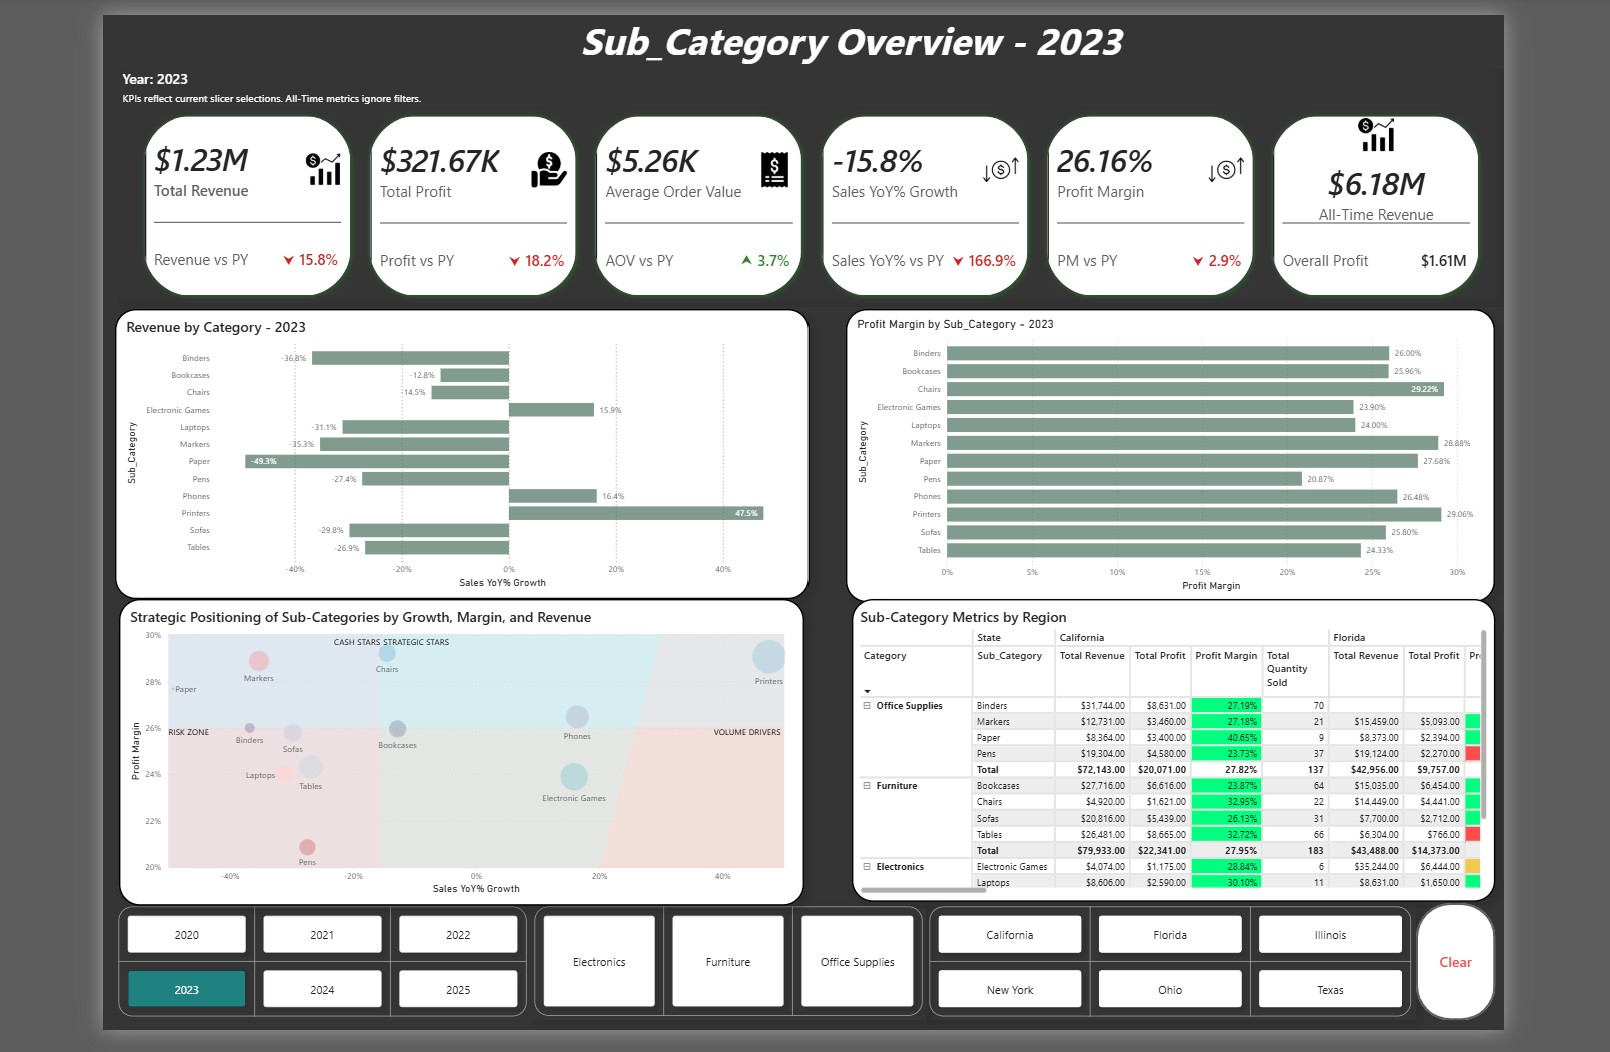

What the dashboard file says about the page in this screenshot:
{"tool":"powerbi","page":{"name":"Sub_Category","canvas":[2000,1600],"ordinal":2},"visuals":[{"type":"cardVisual","fields":{"Data":["analytics Sales_Fact.Total Revenue","analytics Sales_Fact.Total Profit","analytics Sales_Fact.Average Order Value","analytics Sales_Fact.Sales YoY% Growth","analytics Sales_Fact.Profit Margin","measures (2).Total Revenue All Years"]},"box":[21.6,78.4,1978.4,340.5],"z":0},{"type":"barChart","fields":{"Category":["analytics Product_Dim.Sub_Category"],"Y":["analytics Sales_Fact.Sales YoY% Growth"]},"box":[16.2,418.9,991.9,418.9],"z":1000},{"type":"barChart","fields":{"Category":["analytics Product_Dim.Sub_Category"],"Y":["analytics Sales_Fact.Profit Margin"]},"box":[1059.5,418.9,927,418.9],"z":2000},{"type":"pivotTable","title":"Sub-Category Metrics by Region","fields":{"Values":["analytics Sales_Fact.Total Revenue","analytics Sales_Fact.Total Profit","analytics Sales_Fact.Profit Margin","analytics Sales_Fact.Total Quantity Sold"],"Rows":["analytics Product_Dim.Category","analytics Product_Dim.Sub_Category"],"Columns":["analytics Customer_Dim.State"]},"box":[1067.6,835.1,918.9,432.4],"z":3000},{"type":"advancedSlicerVisual","fields":{"Values":["Date.Year"]},"box":[16.2,1267.6,594.6,167.6],"z":4000},{"type":"advancedSlicerVisual","fields":{"Values":["analytics Product_Dim.Category"]},"box":[612,1268.1,563,166.5],"z":5000},{"type":"advancedSlicerVisual","fields":{"Values":["analytics Customer_Dim.State"]},"box":[1173,1267.6,700,167.6],"z":6000},{"type":"scatterChart","title":"Strategic Positioning of Sub-Categories by Growth, Margin, and Revenue","fields":{"X":["analytics Sales_Fact.Sales YoY% Growth"],"Y":["analytics Sales_Fact.Profit Margin"],"Series":["analytics Product_Dim.Sub_Category"],"Size":["Sum(analytics Sales_Fact.Amount)"]},"box":[21.6,835.1,978.4,437.8],"z":7000},{"type":"textbox","box":[610.8,0,913.5,102.7],"z":9000},{"type":"actionButton","box":[1873,1267.6,113.5,167.6],"z":10000}]}

Visuals, with their boxes on the page's 2000x1600 design canvas (x1, y1, x2, y2). These are canvas units, not pixel positions in the 1610x1052 screenshot, which may show the page scaled, cropped or inside an application window:
cardVisual - analytics Sales_Fact.Total Revenue x analytics Sales_Fact.Total Profit: box(22, 78, 2000, 419)
barChart - analytics Product_Dim.Sub_Category x analytics Sales_Fact.Sales YoY% Growth: box(16, 419, 1008, 838)
barChart - analytics Product_Dim.Sub_Category x analytics Sales_Fact.Profit Margin: box(1060, 419, 1986, 838)
"Sub-Category Metrics by Region" pivotTable: box(1068, 835, 1986, 1268)
advancedSlicerVisual - Date.Year: box(16, 1268, 611, 1435)
advancedSlicerVisual - analytics Product_Dim.Category: box(612, 1268, 1175, 1435)
advancedSlicerVisual - analytics Customer_Dim.State: box(1173, 1268, 1873, 1435)
"Strategic Positioning of Sub-Categories by Growth, Margin, and Revenue" scatterChart: box(22, 835, 1000, 1273)
textbox: box(611, 0, 1524, 103)
actionButton: box(1873, 1268, 1986, 1435)
